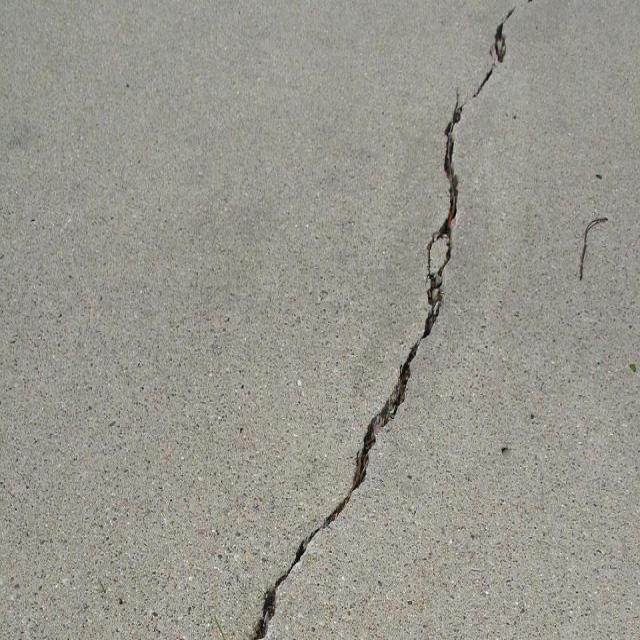Crack: (238, 489, 353, 640), (342, 321, 429, 514), (421, 86, 471, 351), (469, 0, 523, 113)
